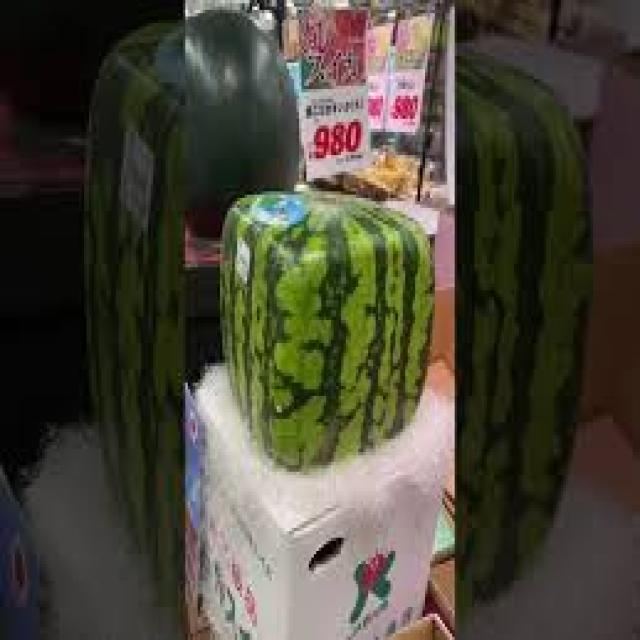watermelon: (452, 46, 593, 604), (217, 184, 435, 472)
